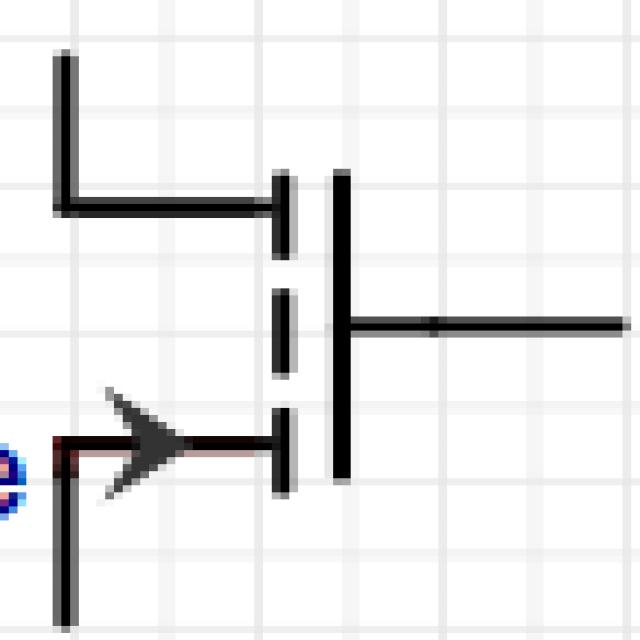pmos: (35, 49, 561, 640)
